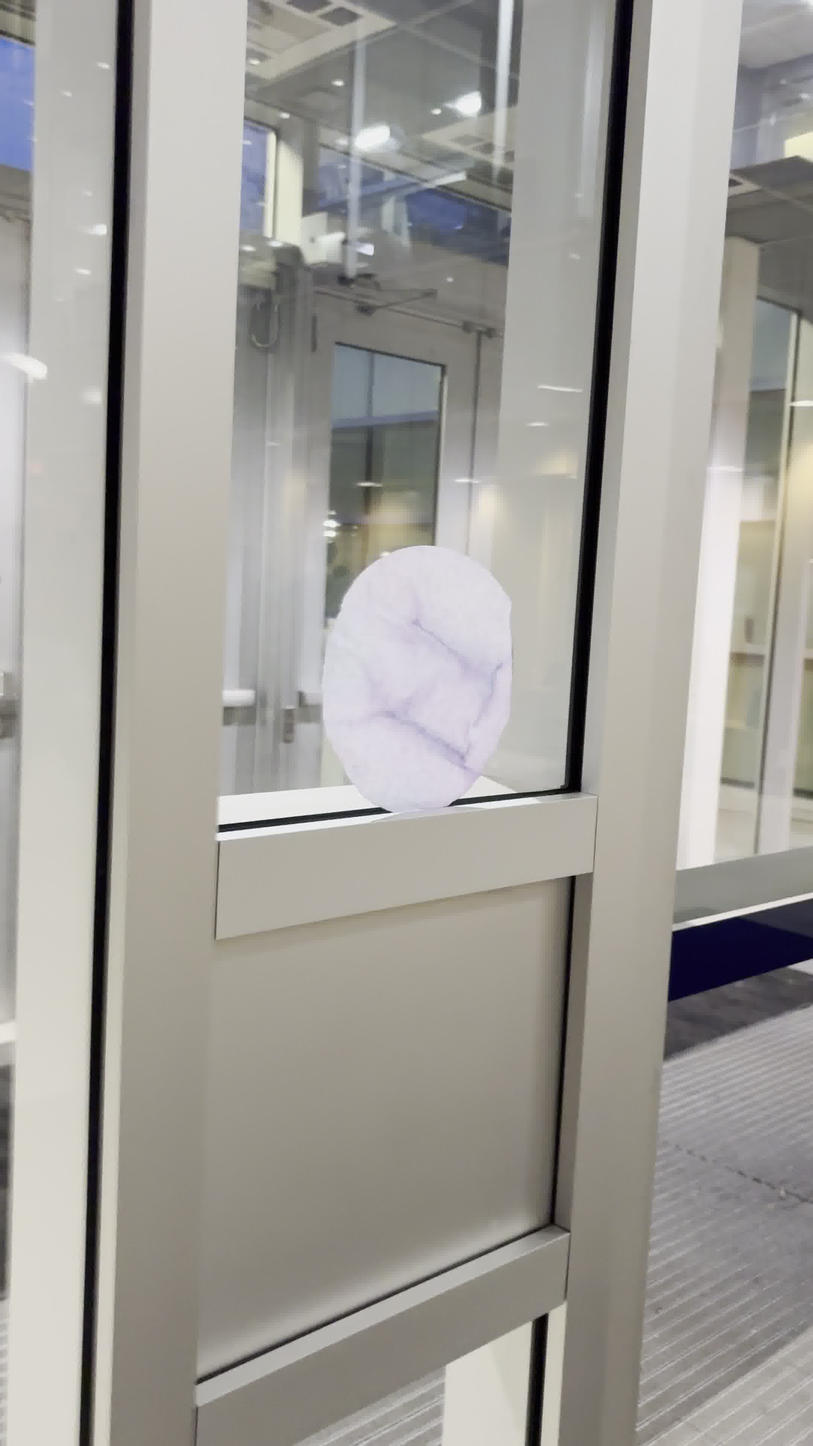Target: (321, 545, 511, 813)
